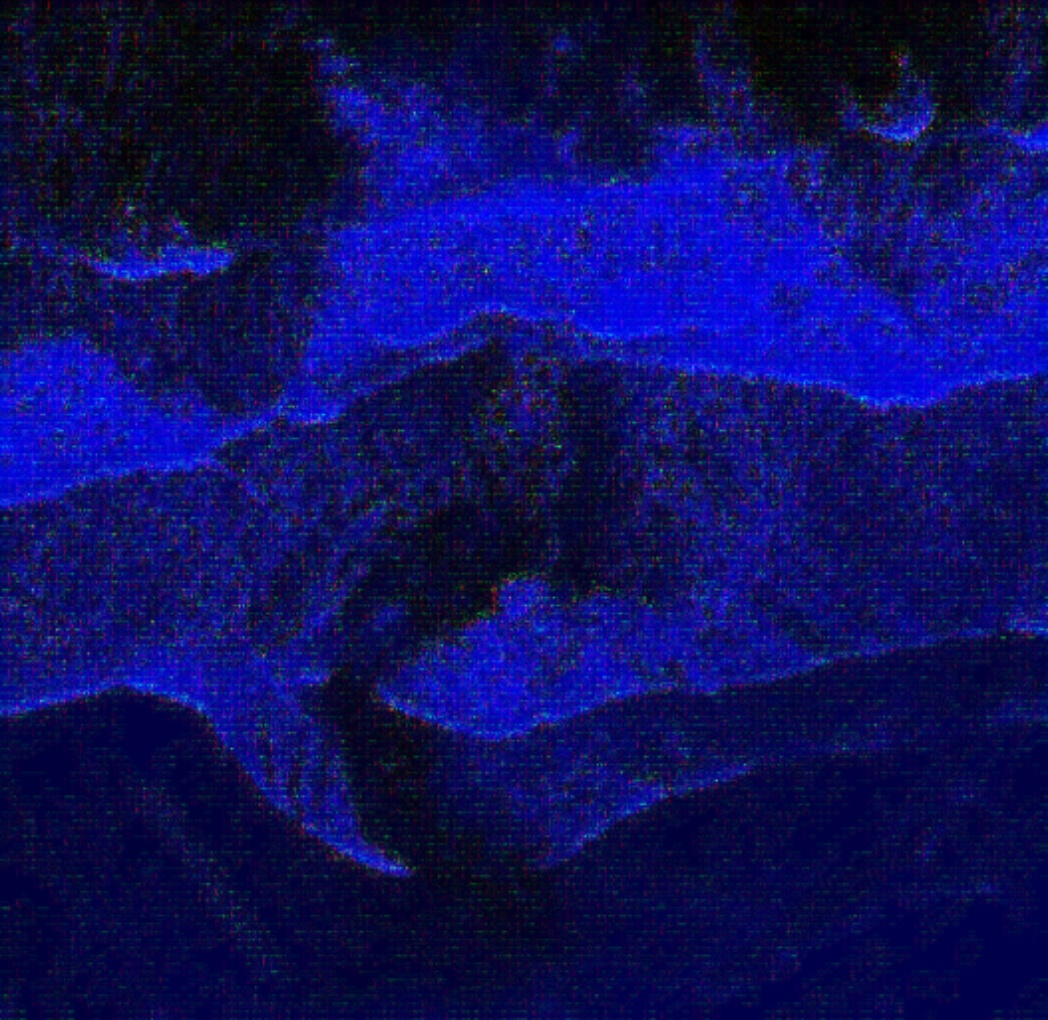rip_current: (269, 298, 650, 850)
